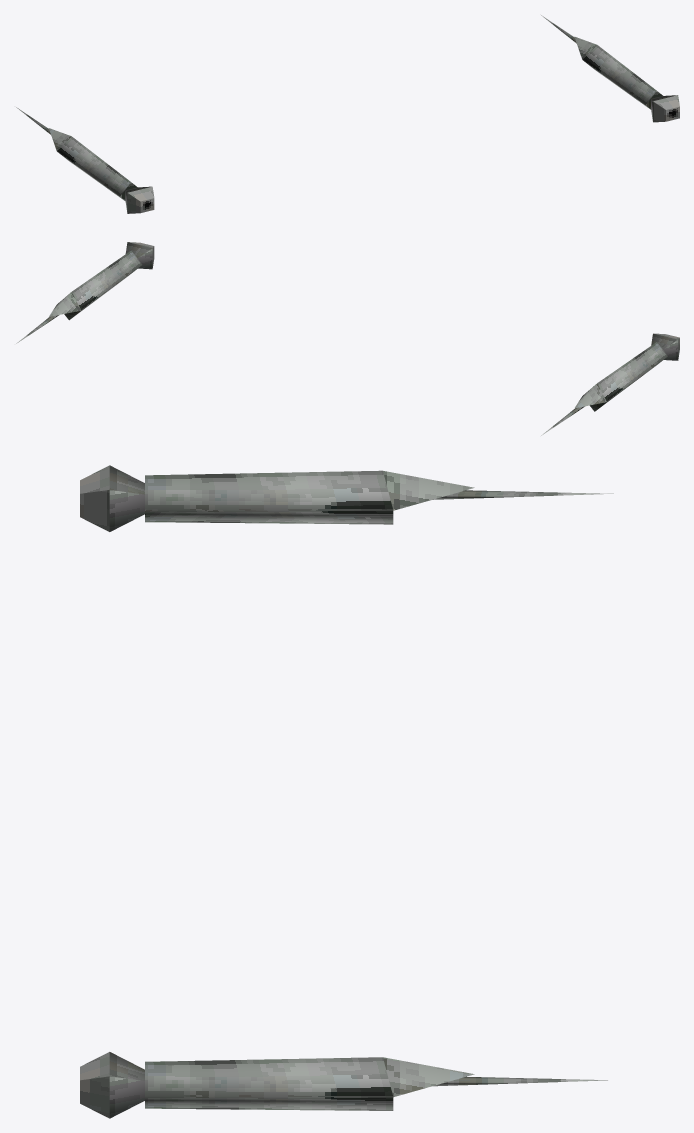
Rendered from xwing_weapon1_pos_s03_l3.fbx.
3 views of the same model, one above another, from view 1: azimuth 30°, elevation 25°; view 2: azimuth 150°, elevation 25°; view 3: azimuth 270°, elevation 25° (orthographic). The views are drawn at different scales.
Visible parts, largest first — view 1: mesh_node; view 2: mesh_node; view 3: mesh_node.
Part boxes in pixels (box(x1,y1,x2,y2)): mesh_node: box(16, 15, 679, 213); mesh_node: box(16, 242, 679, 435); mesh_node: box(80, 465, 613, 1118).
Bounding box in the file's own units: 13.59 × 1.5 × 5.7.
